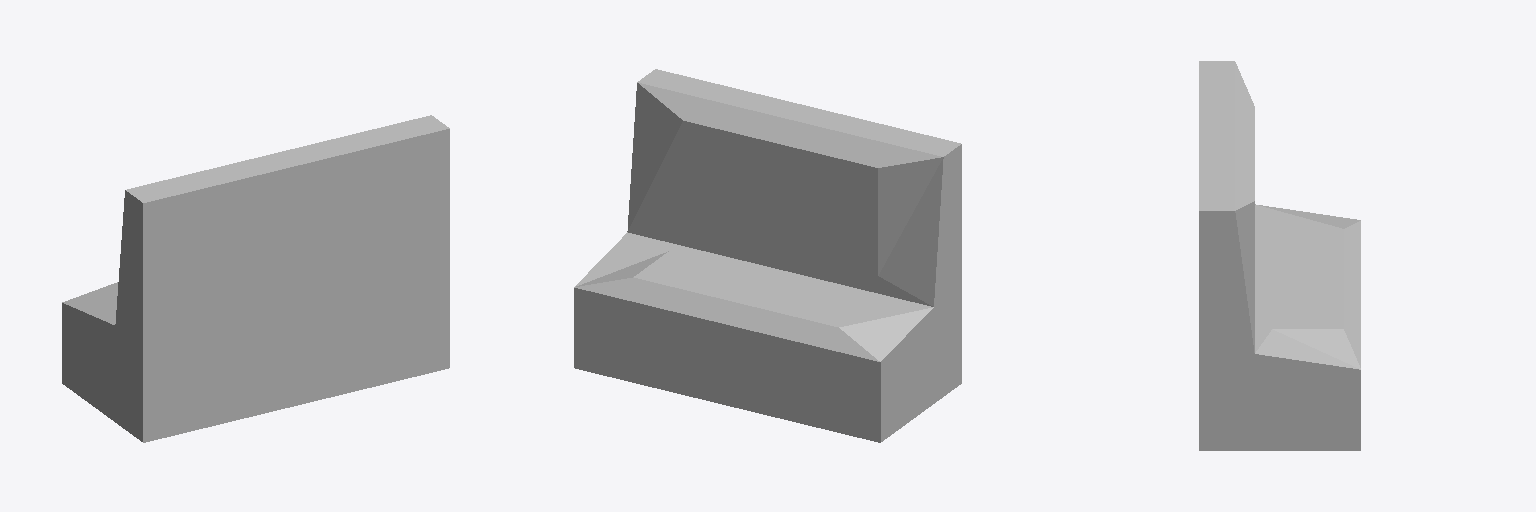
File: Couch.obj
3 views of the same model, side by side, from view 1: azimuth 30°, elevation 25°; view 2: azimuth 150°, elevation 25°; view 3: azimuth 270°, elevation 25° (orthographic).
Visible parts, largest first — view 1: Cube; view 2: Cube; view 3: Cube.
Boxes of the visible parts, box(x1,y1,x2,y2) form: Cube: box(62, 115, 449, 442); Cube: box(574, 69, 961, 442); Cube: box(1199, 61, 1360, 450).
Size of the model in its own units: 6.63 by 4.95 by 3.05.